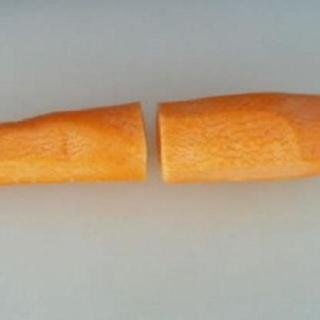carrot: (153, 86, 320, 192), (0, 100, 153, 190)
